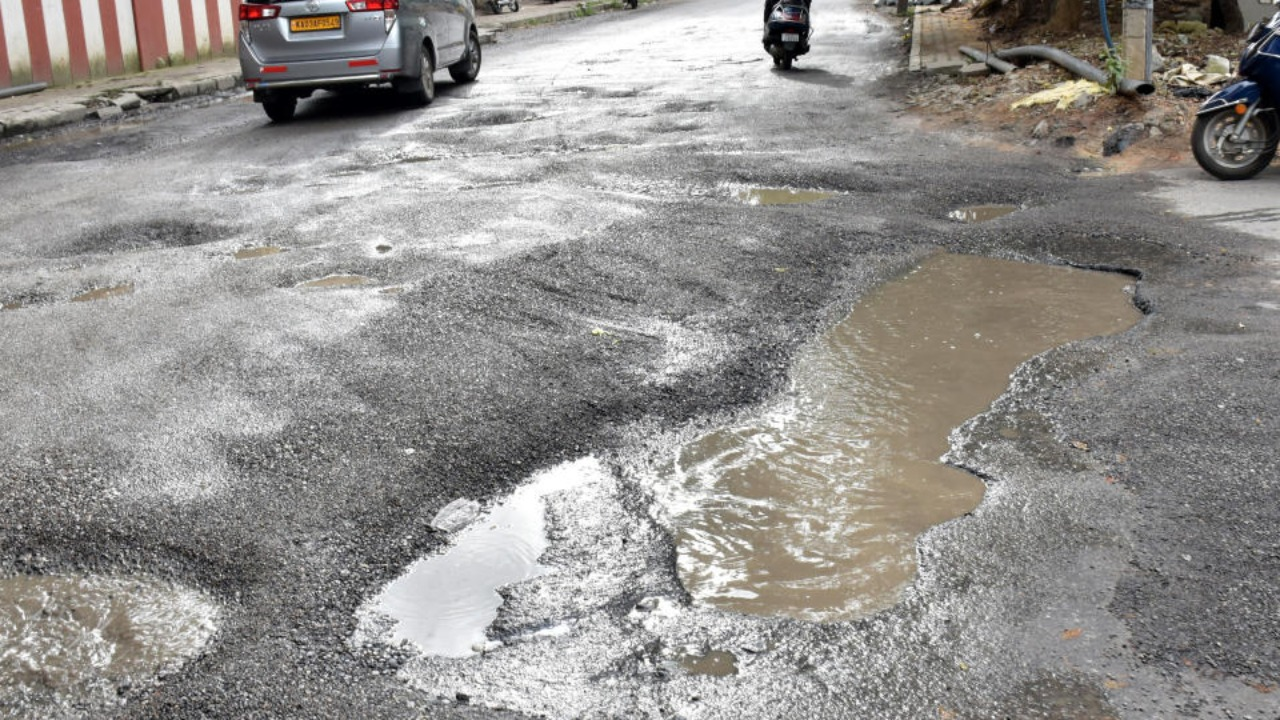potholes: (833, 238, 1197, 638), (683, 142, 864, 220)
